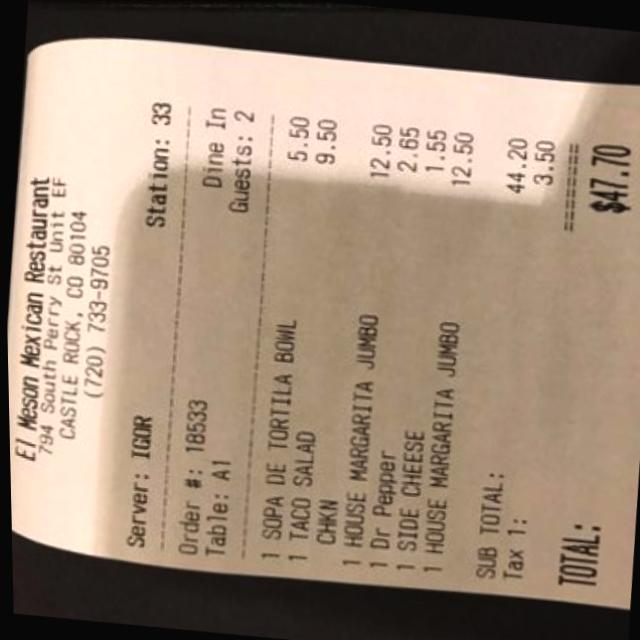Paper: (0, 25, 640, 615)
